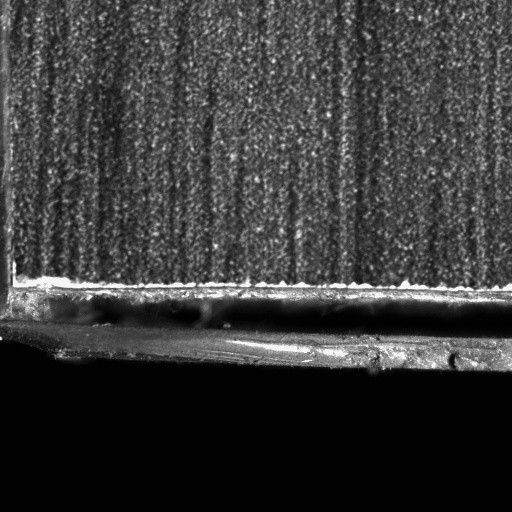kaijiao: (0, 282, 511, 375)
